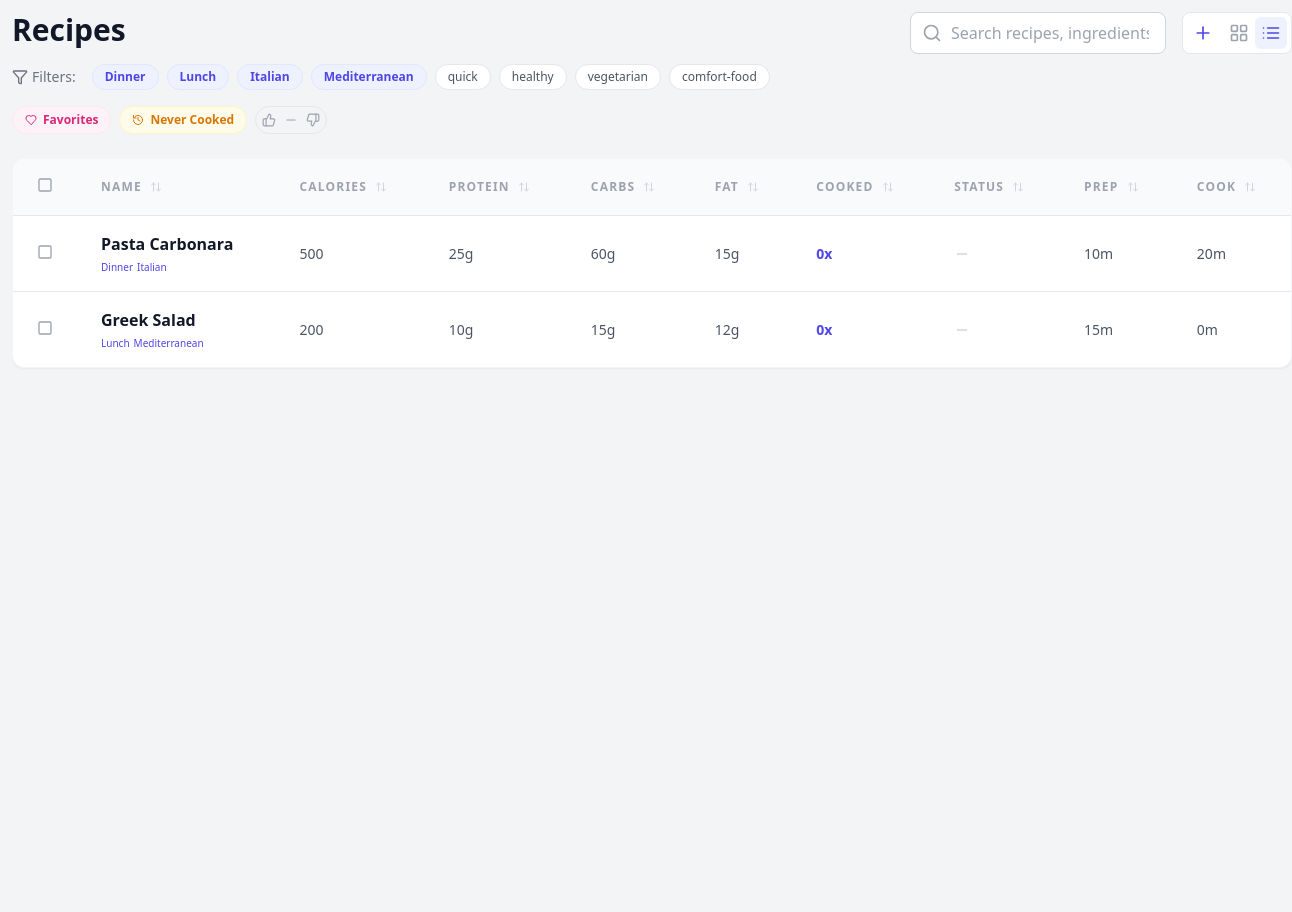
it: RecipeView › toggles select all in table view
Step 1. Click the button titled "Select All" → (45, 185), box [37,177,53,193]
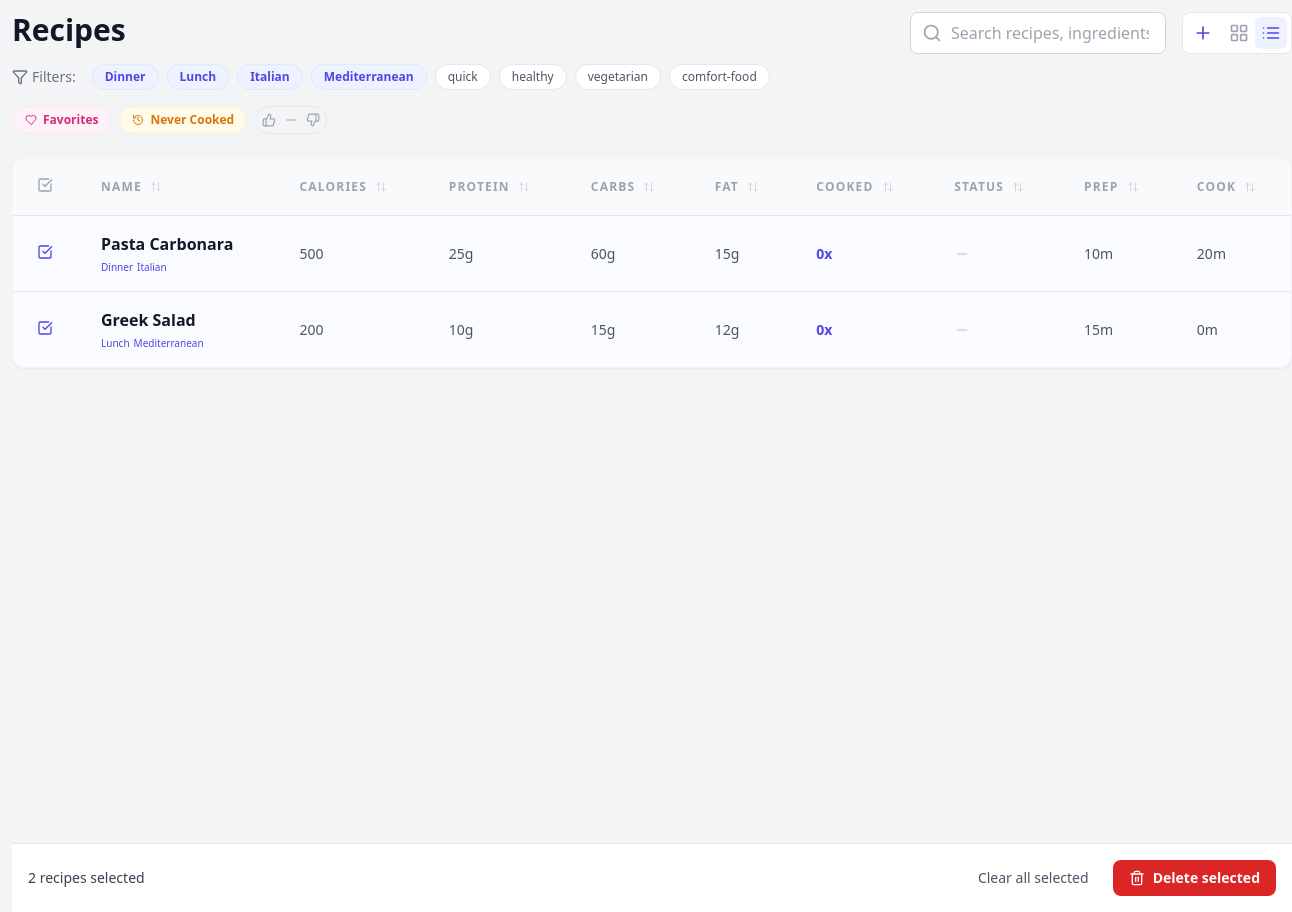
Expected: the button "Delete selected" is shown, [1113,860,1276,896]
Expected: the button titled "Deselect All" is shown
Step 2. Click the button titled "Deselect All" → (45, 185), box [37,177,53,193]
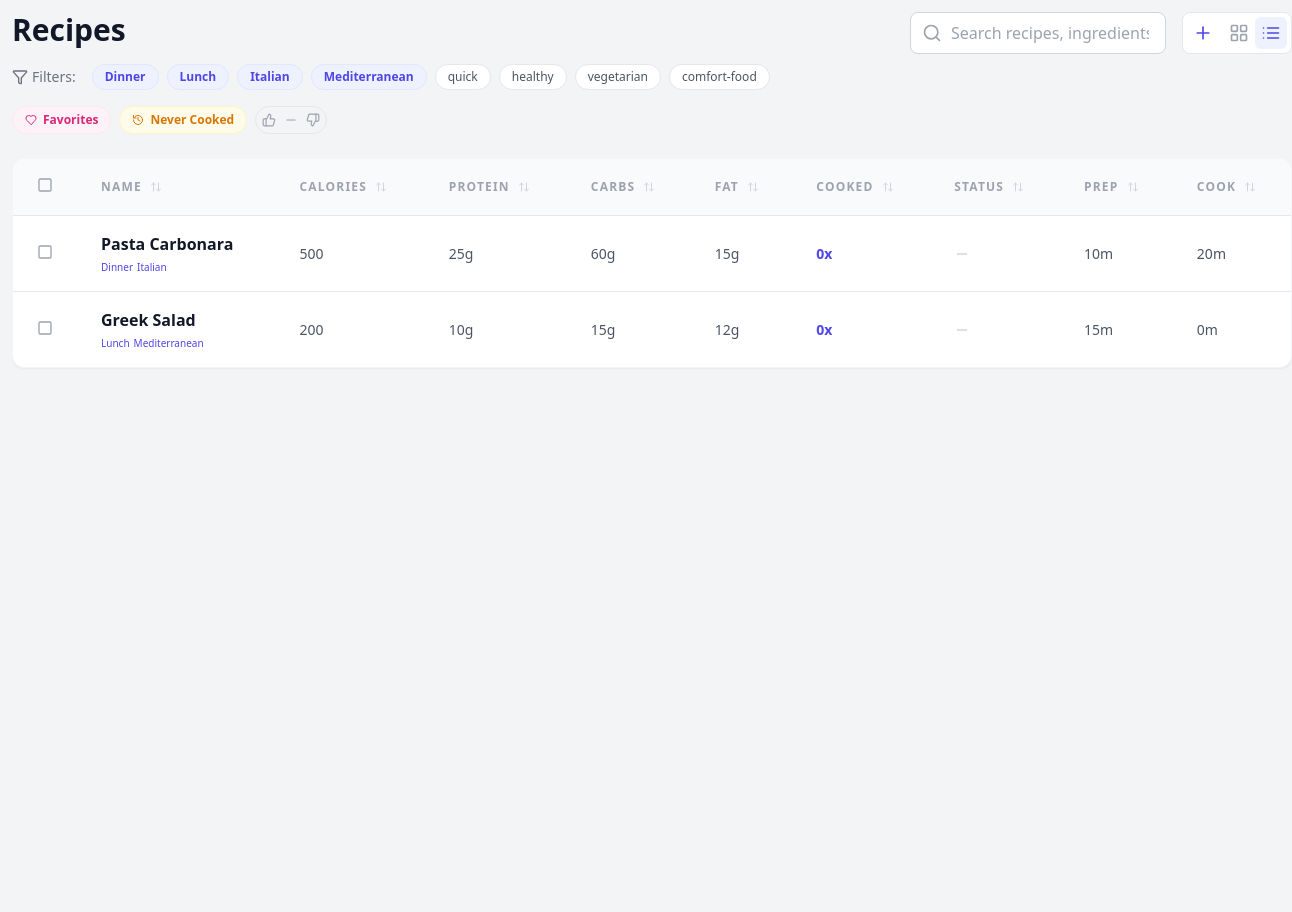
Expected: the button titled "Delete Selected" is gone
